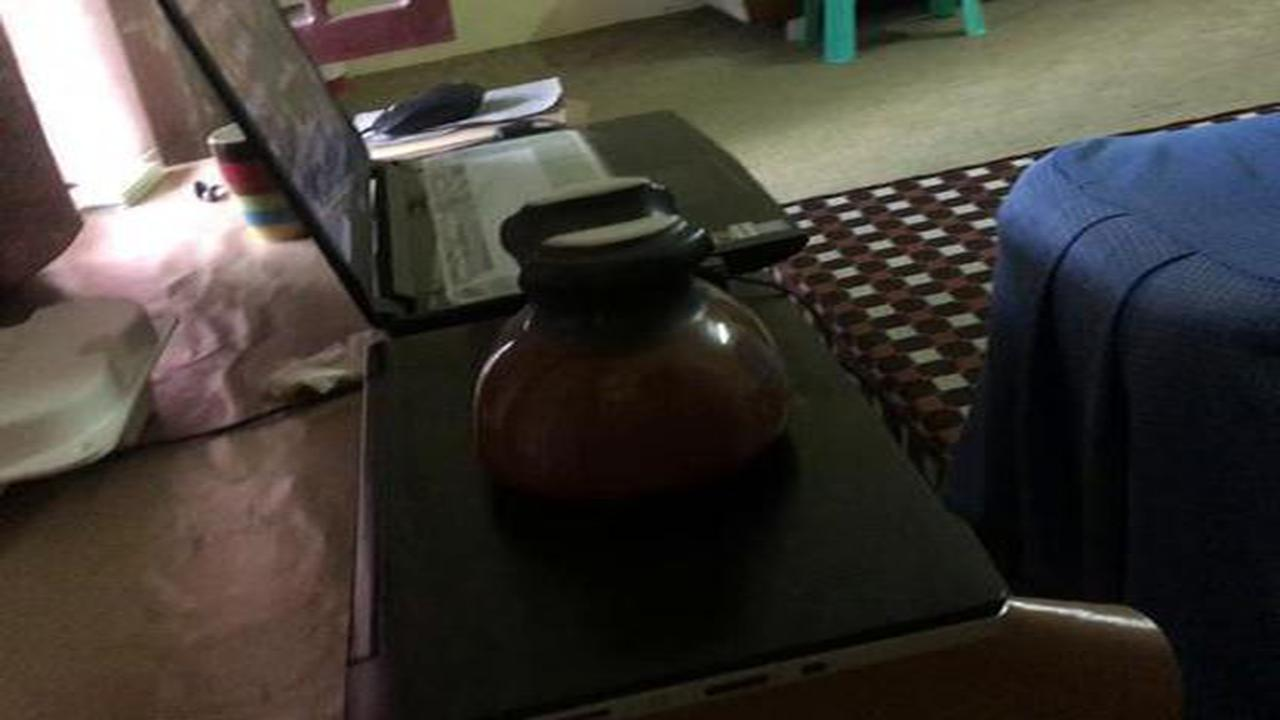insulator_pin: (453, 165, 825, 520)
